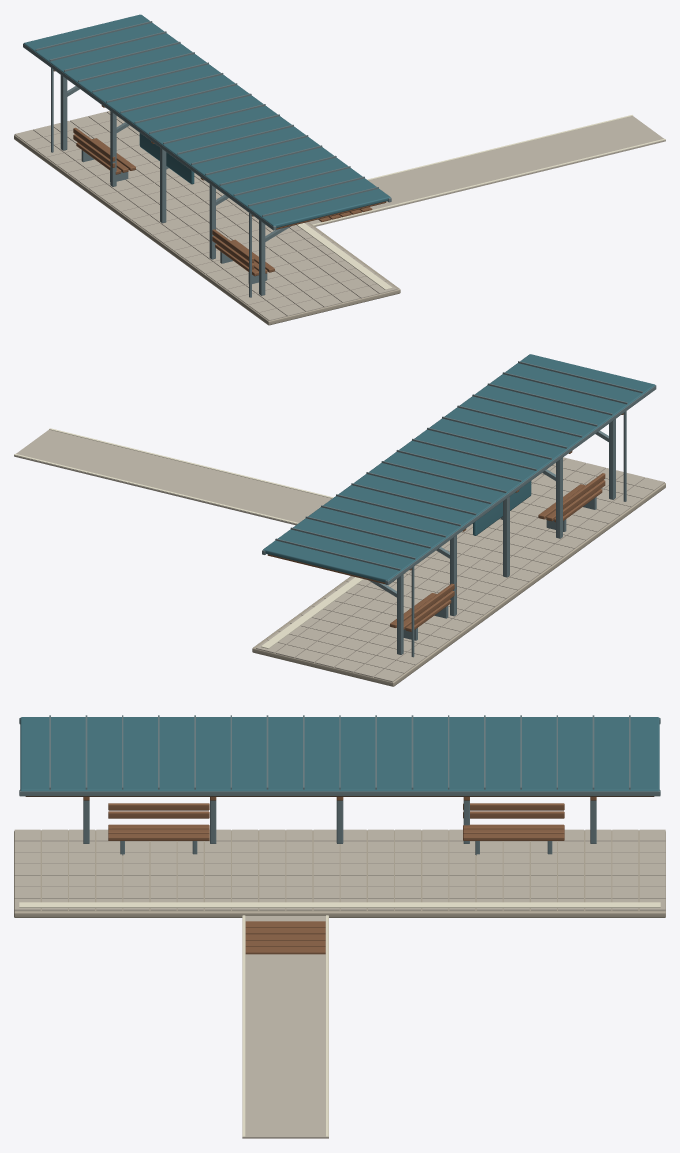
File: train-stop-west.glb
3 views of the same model, one above another, from view 1: azimuth 30°, elevation 25°; view 2: azimuth 150°, elevation 25°; view 3: azimuth 270°, elevation 25° (orthographic). The views are drawn at different scales.
Parts seen in each view (by area): view 1: TrainStop_west; view 2: TrainStop_west; view 3: TrainStop_west.
Part boxes in pixels (x1=…): TrainStop_west: x1=14, y1=14, x2=665, y2=325; TrainStop_west: x1=14, y1=354, x2=665, y2=686; TrainStop_west: x1=14, y1=715, x2=665, y2=1138.
Size of the model in its own units: 19.84 by 3.83 by 18.
